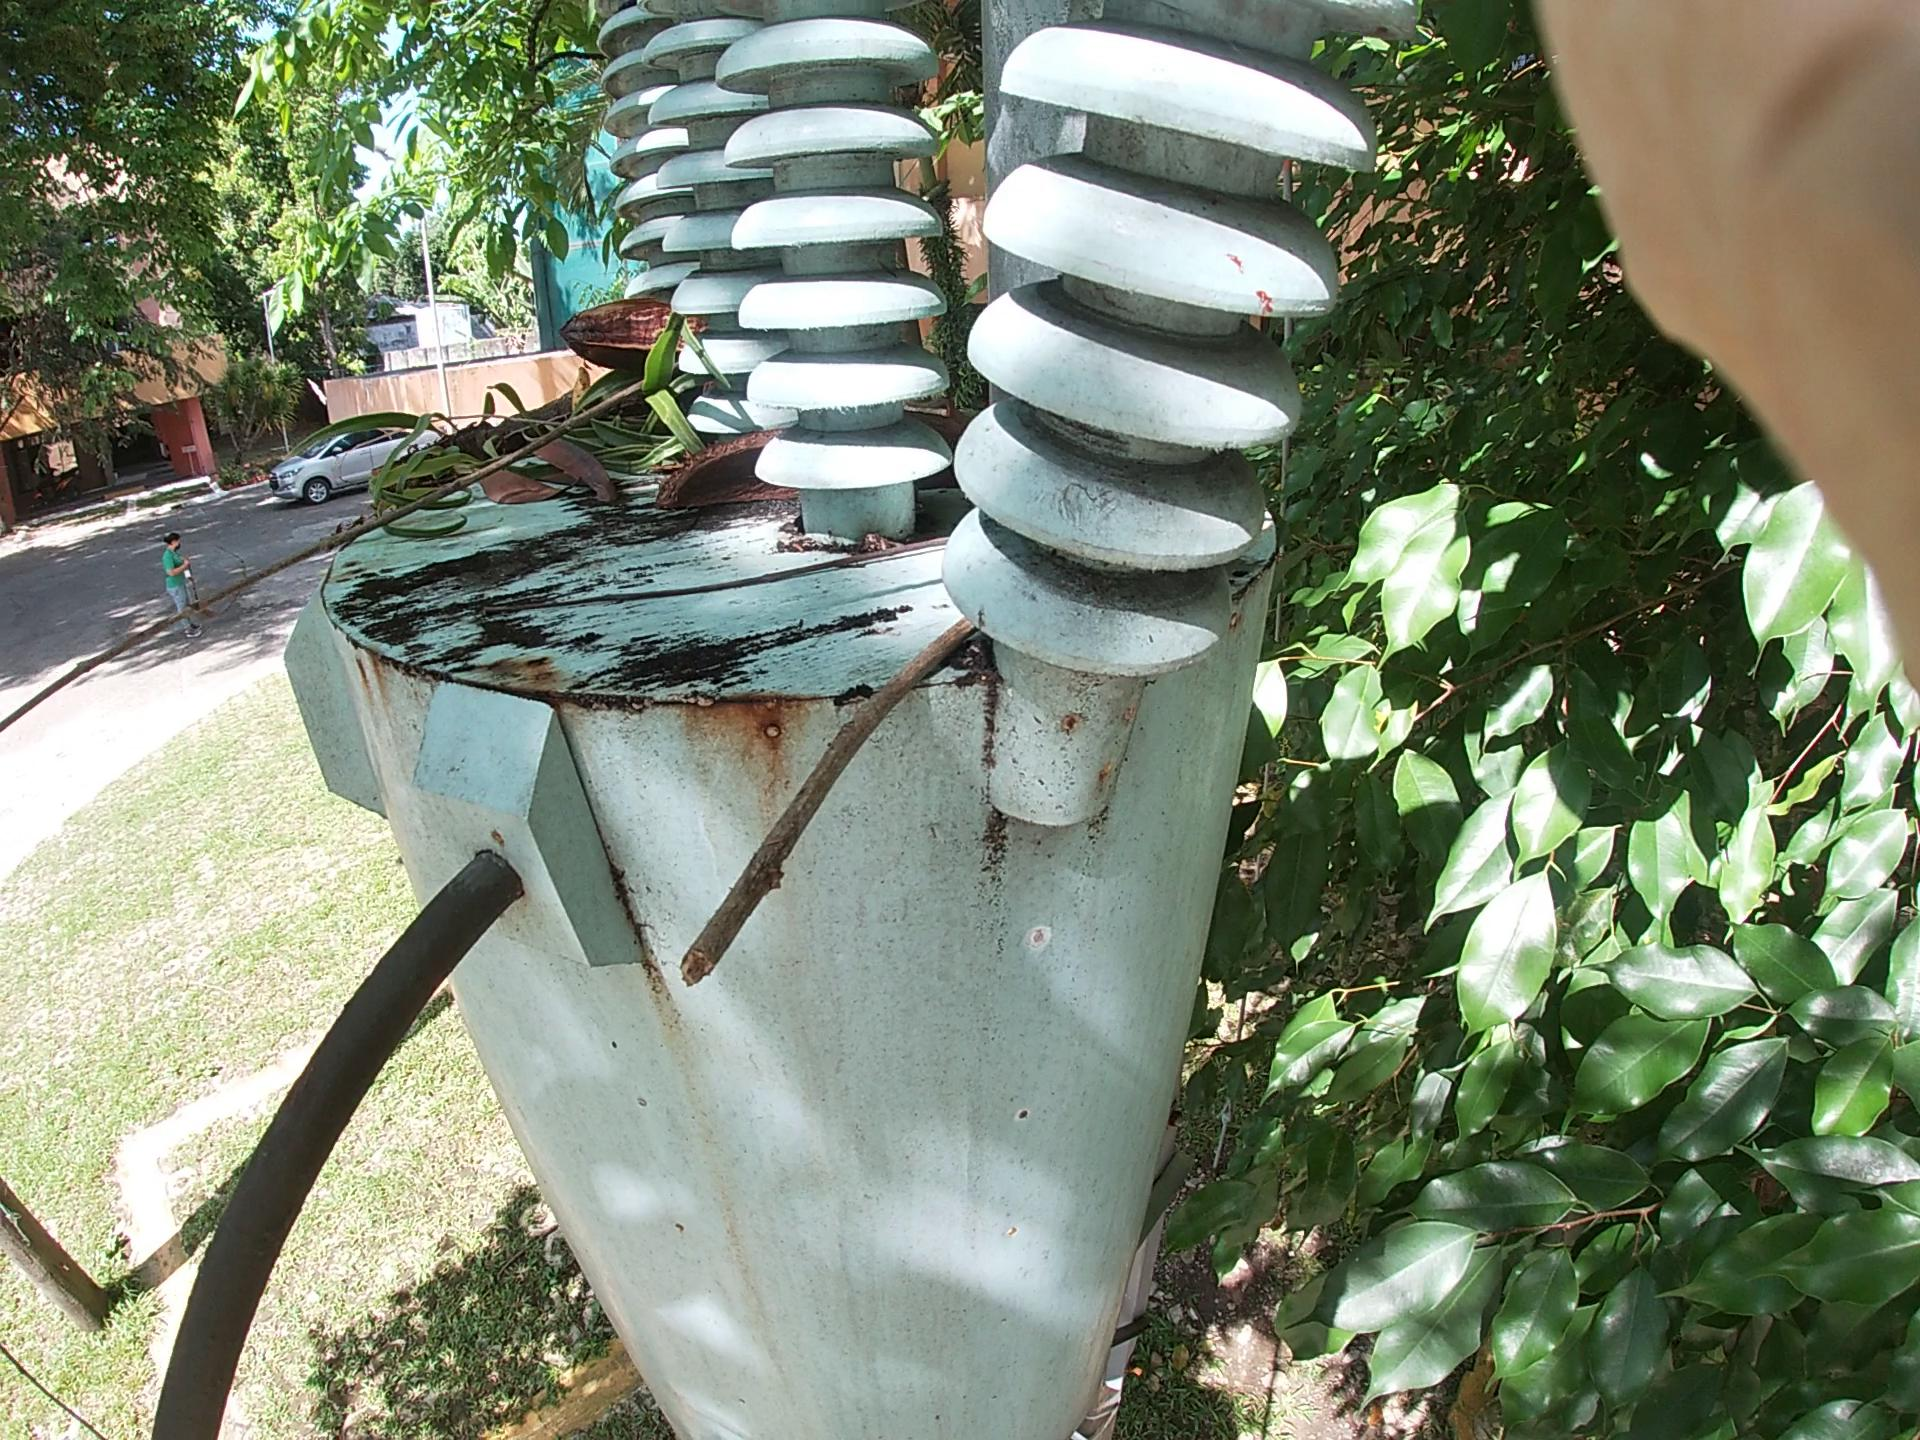branch with leaves: (324, 293, 845, 514)
leaf: (425, 396, 661, 522)
mahogany fruit: (624, 371, 844, 537), (525, 303, 745, 389)
tree branch: (112, 360, 759, 737), (754, 579, 1025, 935)
